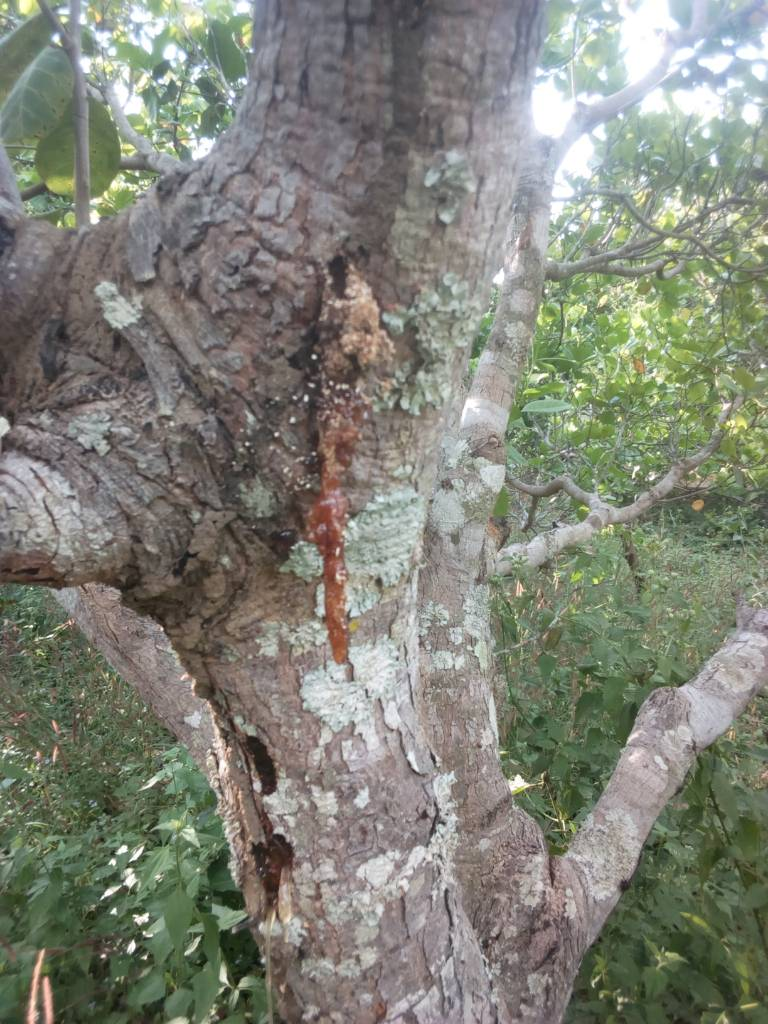Apate terebrans: (236, 226, 454, 415)
